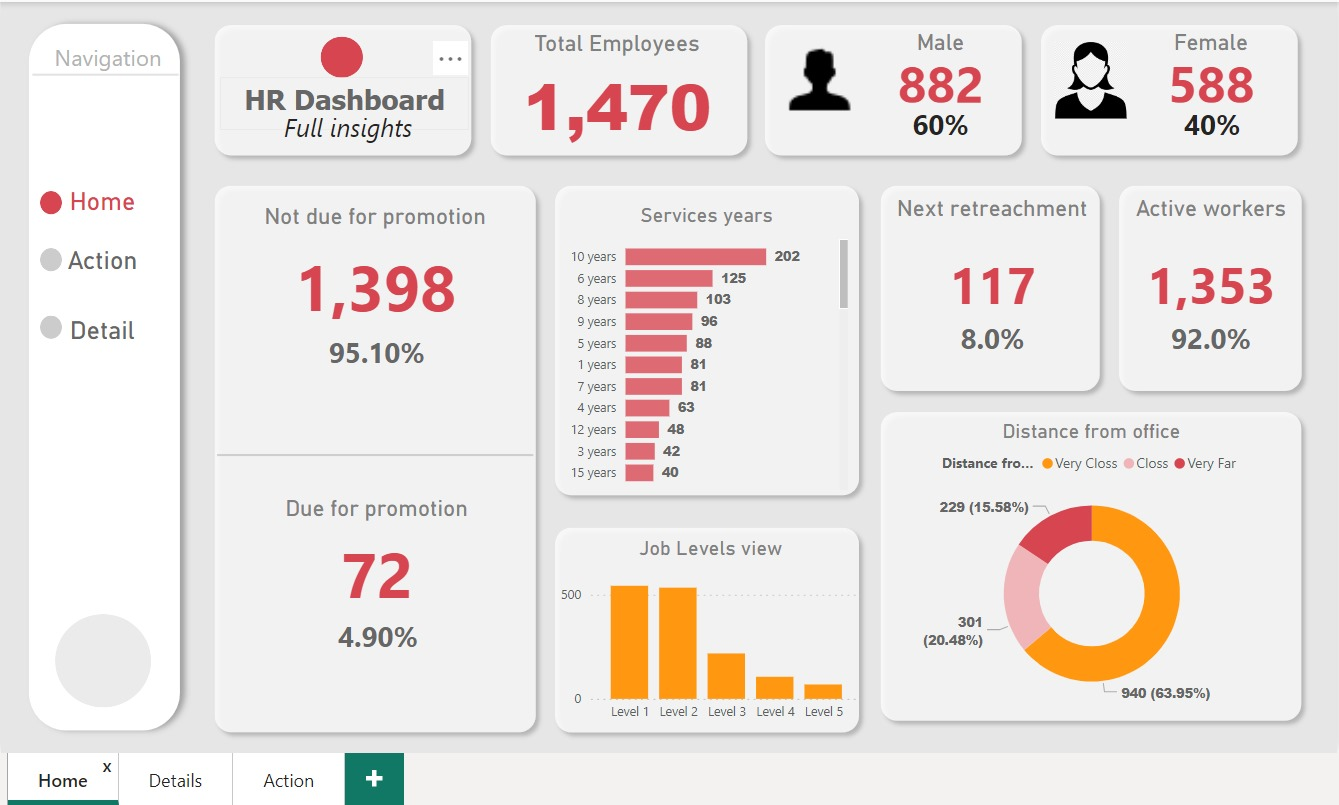

This screenshot's page, from the dashboard's own definition file:
{"tool":"powerbi","page":{"name":"Home","canvas":[1280,720],"ordinal":0},"visuals":[{"type":"shape","box":[16.5,9.6,166.5,699.2],"z":0},{"type":"shape","box":[195.4,12.4,264.3,143.1],"z":1000},{"type":"shape","box":[459.7,12.4,264.3,143.1],"z":2000},{"type":"shape","box":[724,12.4,264.3,143.1],"z":3000},{"type":"shape","box":[988.2,12.4,264.3,143.1],"z":4000},{"type":"shape","box":[195.4,166.5,326.2,542.3],"z":5000},{"type":"shape","box":[521.6,166.2,309.7,315.2],"z":6000},{"type":"shape","box":[521.6,494.1,309.7,214.7],"z":7000},{"type":"shape","box":[834.8,384.2,421.6,314.1],"z":8000},{"type":"shape","box":[833.6,166.7,228.3,215],"z":9000},{"type":"shape","box":[1063.1,166.7,193.3,215],"z":10000},{"type":"textbox","box":[209.7,71.2,238.7,51.4],"z":11000},{"type":"textbox","box":[36.9,33,130.5,51.4],"z":12000},{"type":"textbox","box":[209.7,97.6,251.9,55.4],"z":13000},{"type":"shape","box":[305.9,33,40.9,39.6],"z":14000},{"type":"card","title":"Total Employees","fields":{"Values":["All Measures.Total Emp"]},"box":[468,27.5,246.4,112.9],"z":15000},{"type":"card","title":"Male","fields":{"Values":["All Measures.Male"]},"box":[814.8,26.2,170.7,75.7],"z":16000},{"type":"card","fields":{"Values":["All Measures.Male %"]},"box":[834.1,90.8,132.1,55.1],"z":17000},{"type":"card","title":"Female","fields":{"Values":["All Measures.Female"]},"box":[1068.7,26.2,183.1,75.7],"z":18000},{"type":"card","fields":{"Values":["All Measures.Female %"]},"box":[1083.9,90.8,152.8,53.7],"z":19000},{"type":"image","box":[736.3,26.2,95,90.8],"z":20000},{"type":"actionButton","title":"Home","box":[27.8,176.4,140.1,30.2],"z":21000},{"type":"image","box":[1004.7,33,79.8,84],"z":22000},{"type":"actionButton","title":"Action","box":[27.7,233.4,139.8,56.7],"z":23000},{"type":"card","title":"Active workers","fields":{"Values":["All Measures.On service"]},"box":[1058.3,186,203,142.6],"z":24000},{"type":"actionButton","title":"Detail","box":[27.7,300.7,139.8,58],"z":25000},{"type":"card","fields":{"Values":["All Measures.% Active workers"]},"box":[1082.4,296,153.4,53.2],"z":26000},{"type":"card","title":"Next retreachment","fields":{"Values":["All Measures.Due for retirment"]},"box":[843.2,186,215,142.6],"z":27000},{"type":"card","fields":{"Values":["All Measures.%Due for retirment"]},"box":[865,296,171.5,53.2],"z":28000},{"type":"columnChart","title":"Job Levels view","fields":{"Category":["HR Analytics Data.Job Level"],"Y":["All Measures.Total Emp"]},"box":[531.3,512,300,185.8],"z":29000},{"type":"barChart","title":"Services years","fields":{"Category":["HR Analytics Data.Total working Years"],"Y":["All Measures.Total Emp"]},"box":[536.4,192.1,280.3,280.3],"z":30000},{"type":"donutChart","title":"Distance from office","fields":{"Category":["HR Analytics Data.Distance from office"],"Y":["All Measures.Total Emp"]},"box":[840.8,399.9,408.3,282.7],"z":31000},{"type":"card","title":"Not due for promotion","fields":{"Values":["All Measures.Not Due"]},"box":[207.8,192.1,303.2,130.5],"z":32000},{"type":"card","title":"Due for promotion","fields":{"Values":["All Measures.Due for promotion"]},"box":[209,473.8,303.2,119.6],"z":33000},{"type":"shape","box":[206.6,427.7,303.2,14.5],"z":34000},{"type":"card","fields":{"Values":["All Measures.% Not due for promotion"]},"box":[283.5,309.7,152.8,53.7],"z":35000},{"type":"card","fields":{"Values":["All Measures.% Due for promotion"]},"box":[285.1,582.5,152.2,53.2],"z":36000},{"type":"shape","box":[36.9,180.7,21.1,22.4],"z":37000},{"type":"shape","box":[36.9,236,21.1,22.4],"z":38000},{"type":"shape","box":[36.9,300.7,21.1,22.4],"z":39000},{"type":"shape","box":[51.4,586.8,92.3,89.7],"z":40000},{"type":"shape","box":[30.2,61.6,140.1,15.7],"z":41000}]}

Visuals, with their boxes on the page's 1280x720 design canvas (x1, y1, x2, y2). These are canvas units, not pixel positions in the 1339x805 screenshot, which may show the page scaled, cropped or inside an application window:
shape: {"left": 16, "top": 10, "right": 183, "bottom": 709}
shape: {"left": 195, "top": 12, "right": 460, "bottom": 156}
shape: {"left": 460, "top": 12, "right": 724, "bottom": 156}
shape: {"left": 724, "top": 12, "right": 988, "bottom": 156}
shape: {"left": 988, "top": 12, "right": 1252, "bottom": 156}
shape: {"left": 195, "top": 166, "right": 522, "bottom": 709}
shape: {"left": 522, "top": 166, "right": 831, "bottom": 481}
shape: {"left": 522, "top": 494, "right": 831, "bottom": 709}
shape: {"left": 835, "top": 384, "right": 1256, "bottom": 698}
shape: {"left": 834, "top": 167, "right": 1062, "bottom": 382}
shape: {"left": 1063, "top": 167, "right": 1256, "bottom": 382}
textbox: {"left": 210, "top": 71, "right": 448, "bottom": 123}
textbox: {"left": 37, "top": 33, "right": 167, "bottom": 84}
textbox: {"left": 210, "top": 98, "right": 462, "bottom": 153}
shape: {"left": 306, "top": 33, "right": 347, "bottom": 73}
"Total Employees" card: {"left": 468, "top": 28, "right": 714, "bottom": 140}
"Male" card: {"left": 815, "top": 26, "right": 986, "bottom": 102}
card - All Measures.Male %: {"left": 834, "top": 91, "right": 966, "bottom": 146}
"Female" card: {"left": 1069, "top": 26, "right": 1252, "bottom": 102}
card - All Measures.Female %: {"left": 1084, "top": 91, "right": 1237, "bottom": 144}
image: {"left": 736, "top": 26, "right": 831, "bottom": 117}
"Home" actionButton: {"left": 28, "top": 176, "right": 168, "bottom": 207}
image: {"left": 1005, "top": 33, "right": 1084, "bottom": 117}
"Action" actionButton: {"left": 28, "top": 233, "right": 168, "bottom": 290}
"Active workers" card: {"left": 1058, "top": 186, "right": 1261, "bottom": 329}
"Detail" actionButton: {"left": 28, "top": 301, "right": 168, "bottom": 359}
card - All Measures.% Active workers: {"left": 1082, "top": 296, "right": 1236, "bottom": 349}
"Next retreachment" card: {"left": 843, "top": 186, "right": 1058, "bottom": 329}
card - All Measures.%Due for retirment: {"left": 865, "top": 296, "right": 1036, "bottom": 349}
"Job Levels view" columnChart: {"left": 531, "top": 512, "right": 831, "bottom": 698}
"Services years" barChart: {"left": 536, "top": 192, "right": 817, "bottom": 472}
"Distance from office" donutChart: {"left": 841, "top": 400, "right": 1249, "bottom": 683}
"Not due for promotion" card: {"left": 208, "top": 192, "right": 511, "bottom": 323}
"Due for promotion" card: {"left": 209, "top": 474, "right": 512, "bottom": 593}
shape: {"left": 207, "top": 428, "right": 510, "bottom": 442}
card - All Measures.% Not due for promotion: {"left": 284, "top": 310, "right": 436, "bottom": 363}
card - All Measures.% Due for promotion: {"left": 285, "top": 582, "right": 437, "bottom": 636}
shape: {"left": 37, "top": 181, "right": 58, "bottom": 203}
shape: {"left": 37, "top": 236, "right": 58, "bottom": 258}
shape: {"left": 37, "top": 301, "right": 58, "bottom": 323}
shape: {"left": 51, "top": 587, "right": 144, "bottom": 676}
shape: {"left": 30, "top": 62, "right": 170, "bottom": 77}
